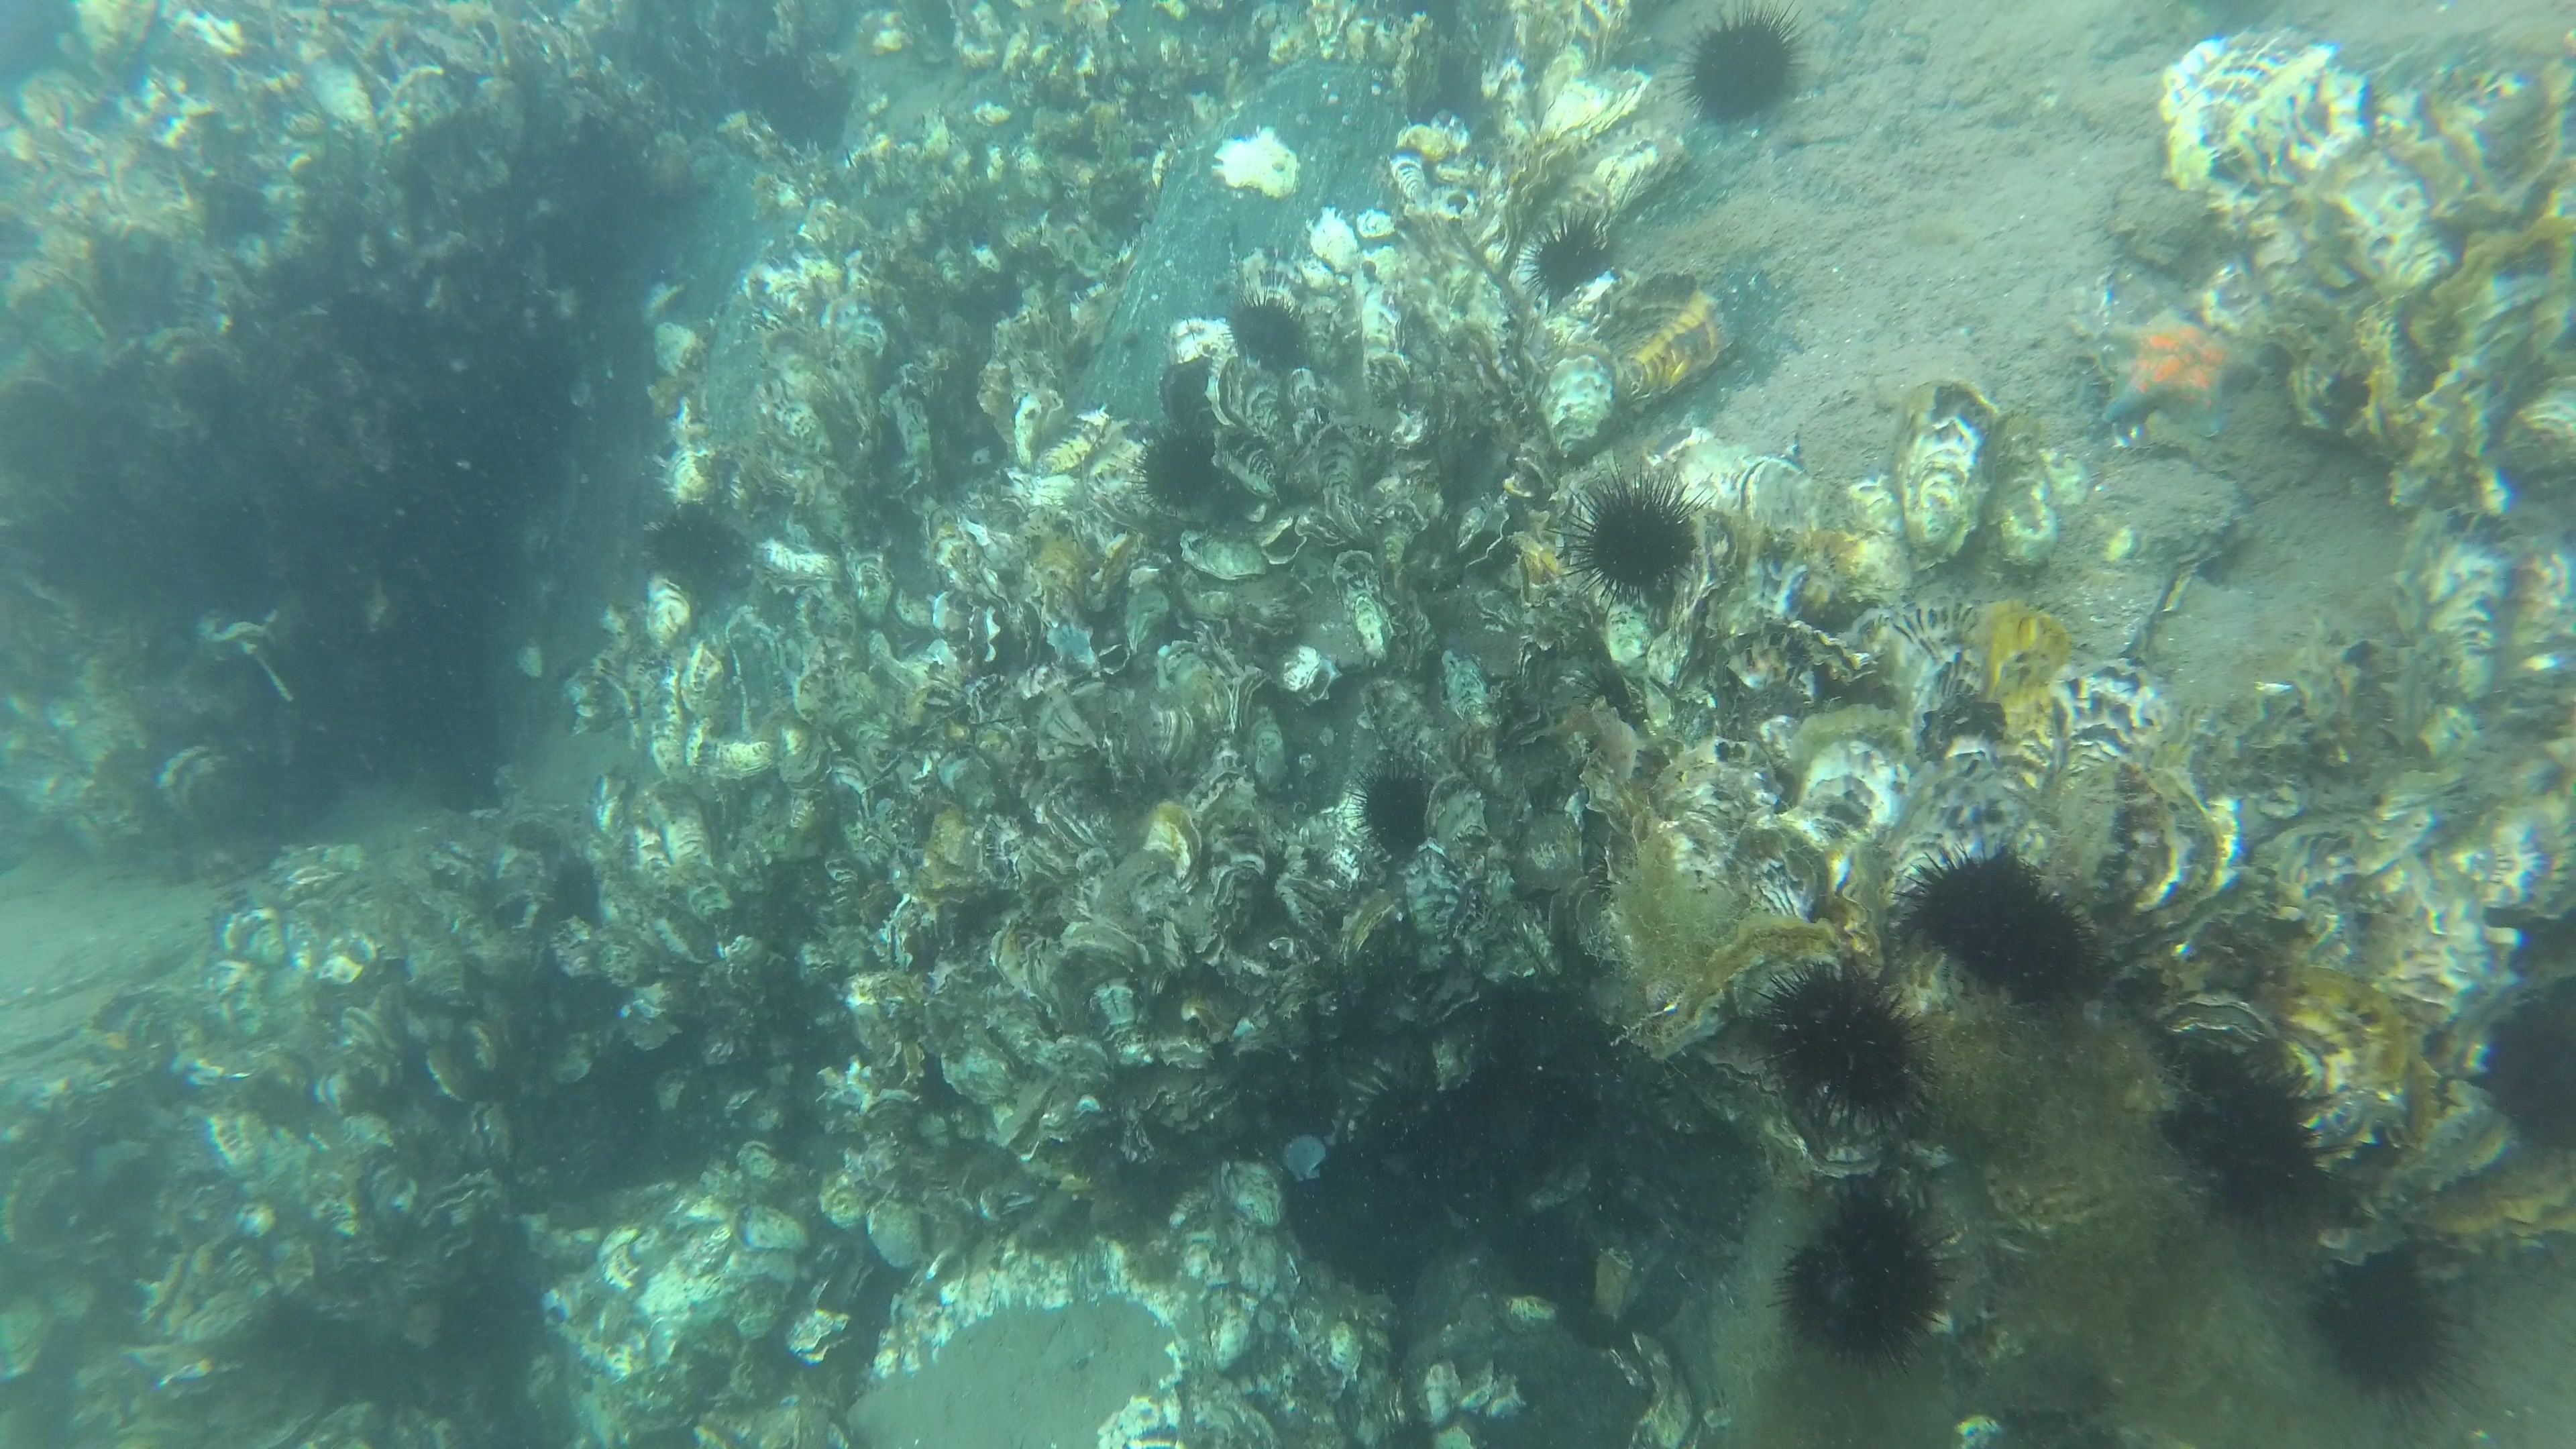echinus: (1760, 1191, 1960, 1371), (1759, 952, 1946, 1139), (1898, 837, 2093, 1007), (2157, 1044, 2327, 1230), (2291, 1237, 2465, 1415), (1560, 456, 1704, 626), (1675, 12, 1803, 131), (633, 497, 757, 614), (1350, 747, 1445, 863), (1529, 200, 1615, 315), (1127, 423, 1228, 517), (1215, 292, 1316, 380)
starfish: (2091, 299, 2268, 446)
